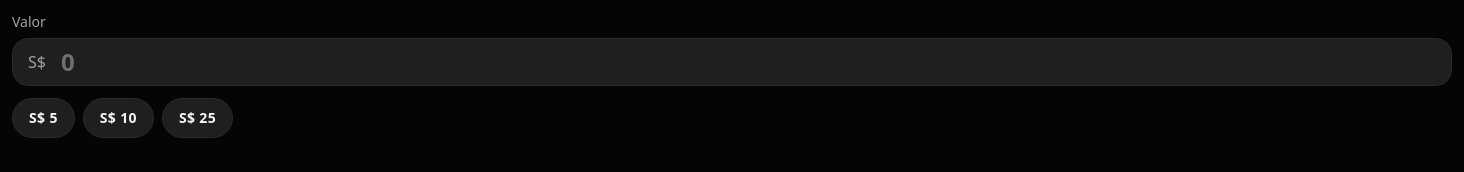
Test case: <TecladoValor> › atalhos preenchem o valor
Click the button "S$ 10".
click(118, 118)  # box [83, 98, 154, 138]
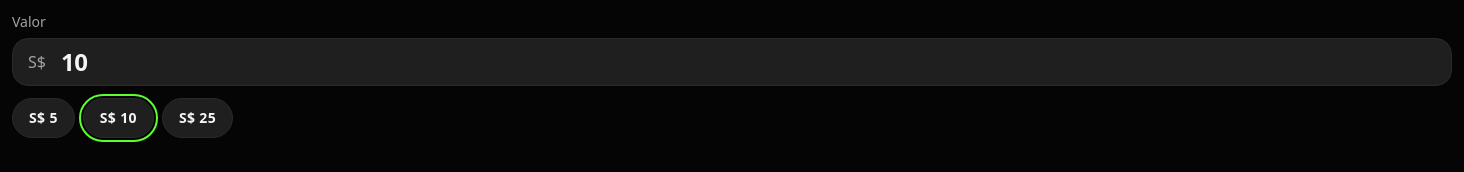
Check: the field labelled "Valor" holds "10", box [12, 38, 1452, 86]
